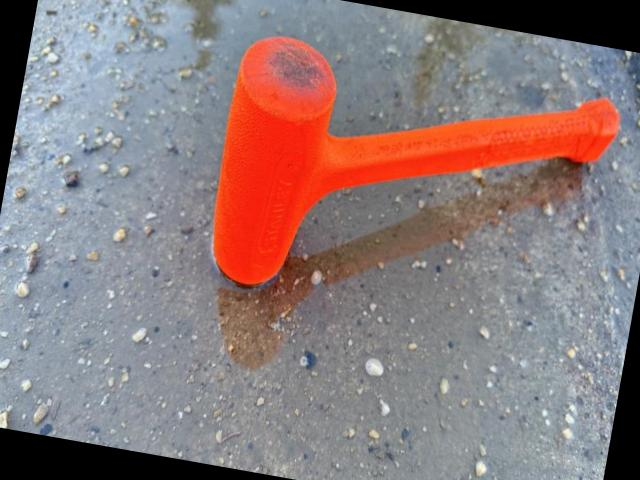hammer: (198, 29, 624, 344)
